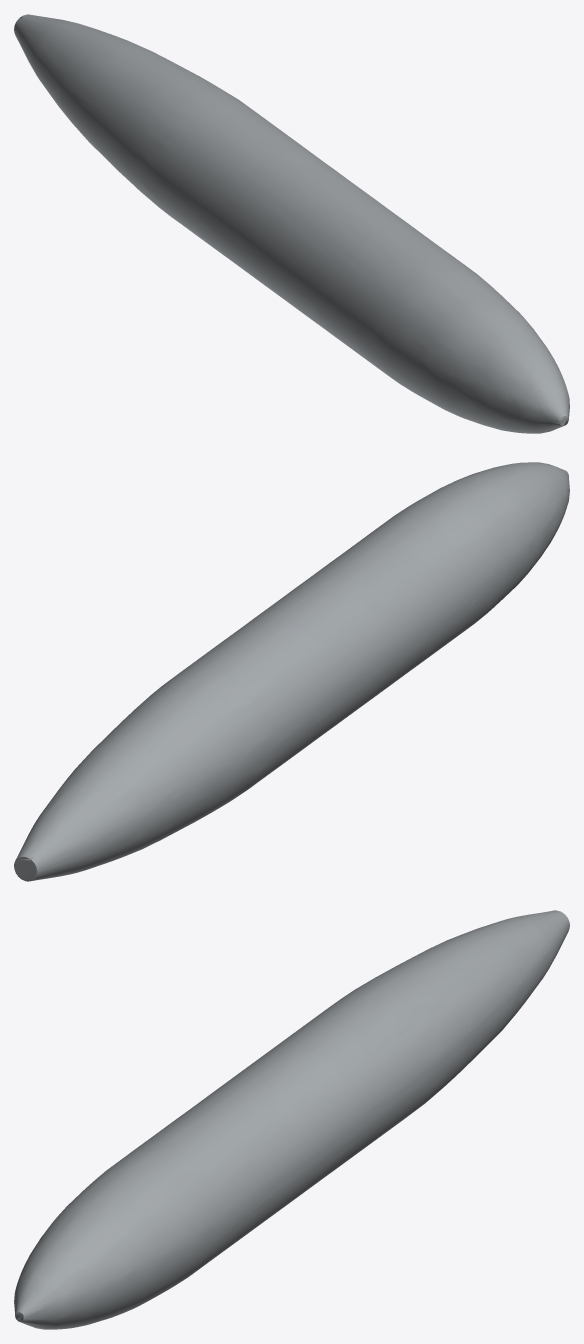
File: ptb1500.glb
3 views of the same model, one above another, from view 1: azimuth 30°, elevation 25°; view 2: azimuth 150°, elevation 25°; view 3: azimuth 330°, elevation 25° (orthographic).
Parts seen in each view (by area): view 1: airframe; view 2: airframe; view 3: airframe.
Boxes of the visible parts, x1=… form: airframe: x1=14, y1=14, x2=569, y2=433; airframe: x1=14, y1=462, x2=569, y2=881; airframe: x1=14, y1=910, x2=569, y2=1329.
Size of the model in its own units: 0.7057 by 0.7057 by 5.64.
1 material, 1 textured.
